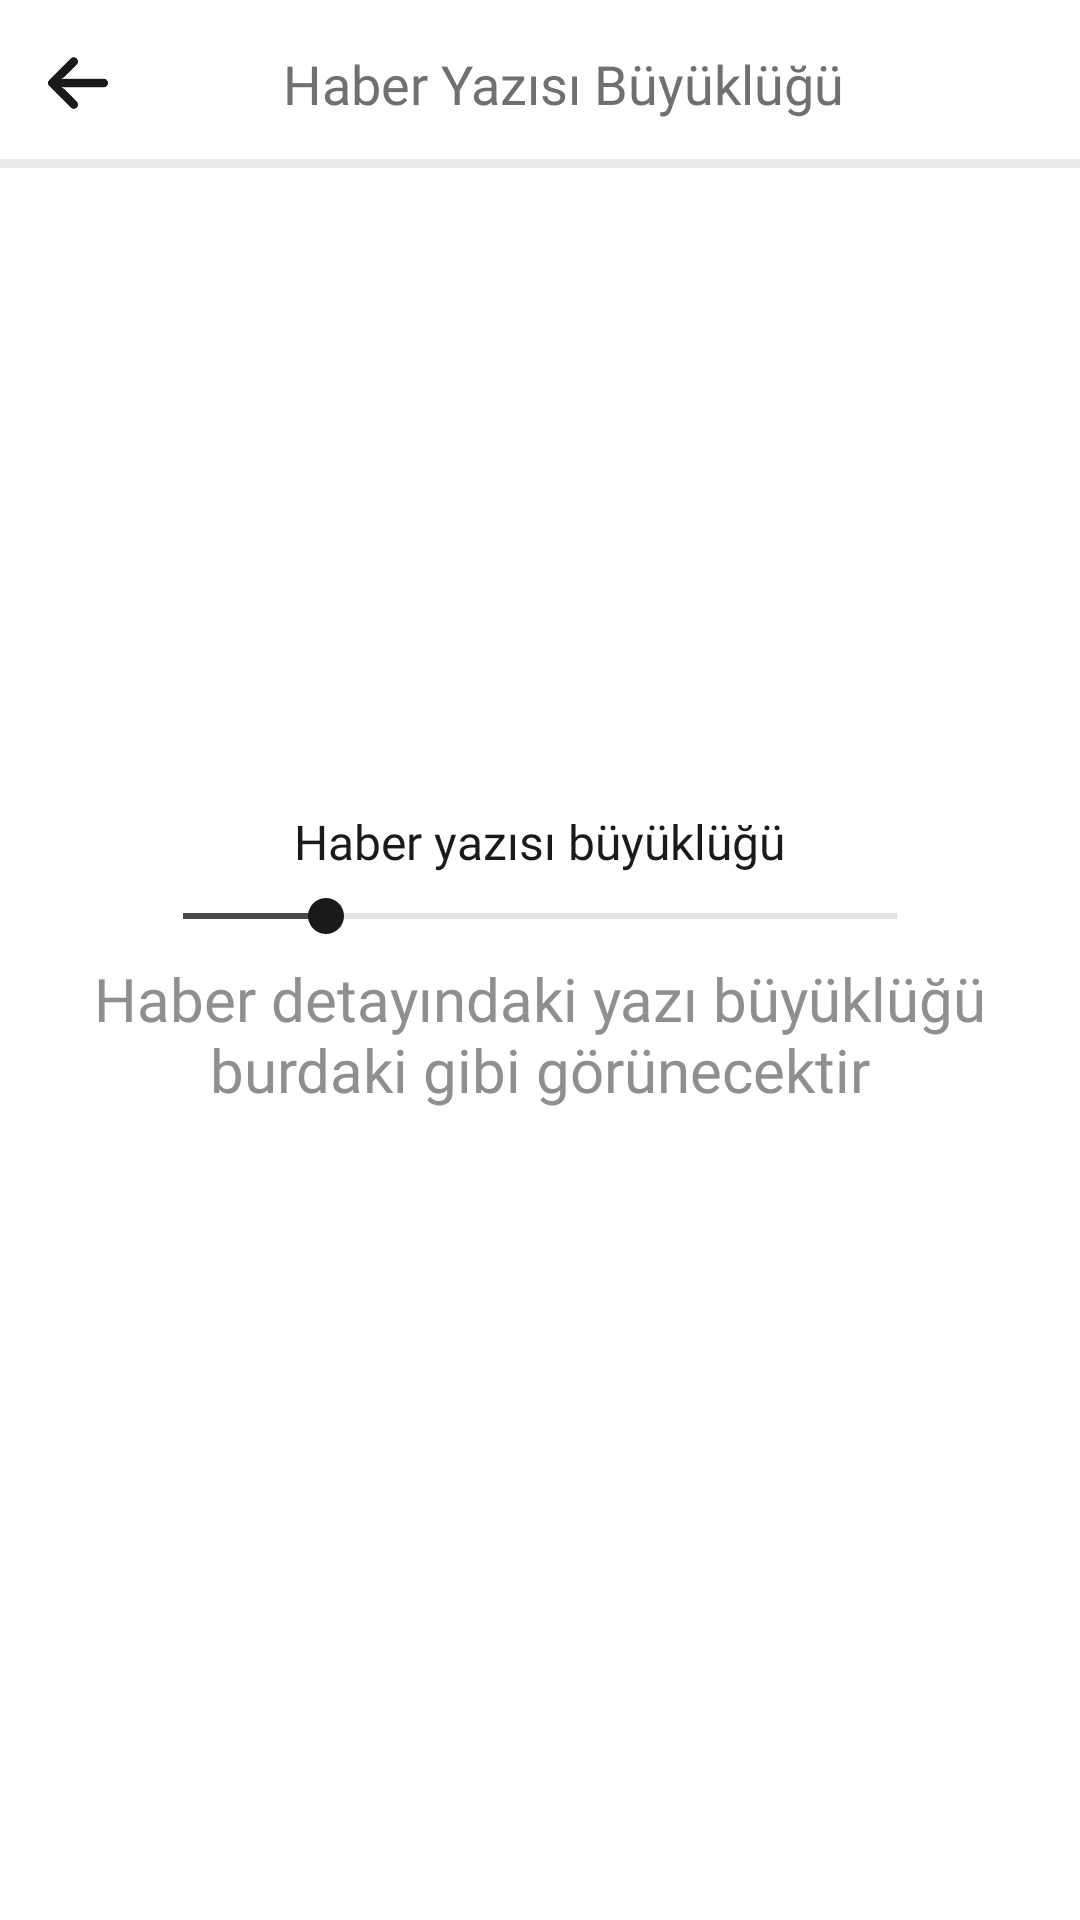

Screen size 1080 x 1920. Icon name, then its center in pixels as (x,y):
arrow back: (78,83)
